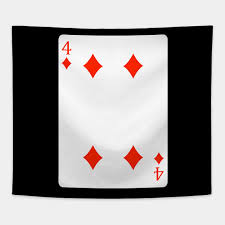four of diamonds: (58, 31, 169, 188)
